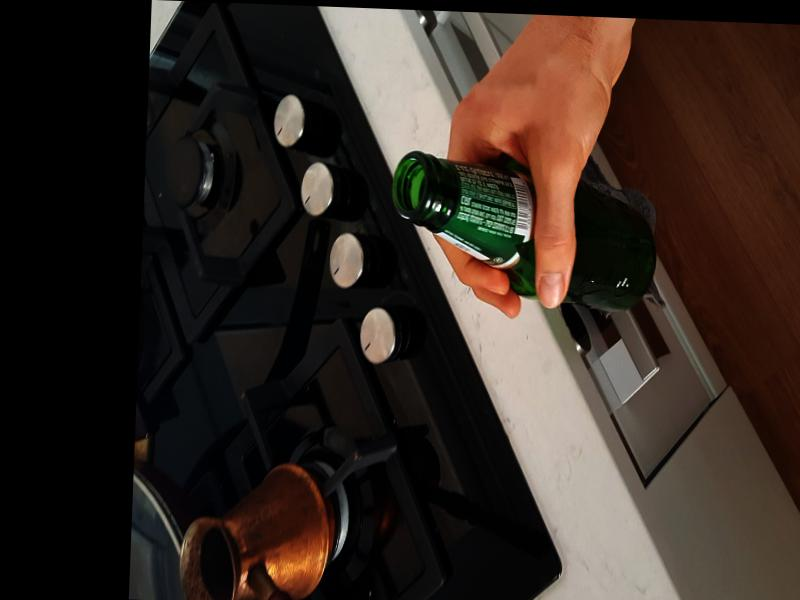Beer: (387, 151, 660, 310)
